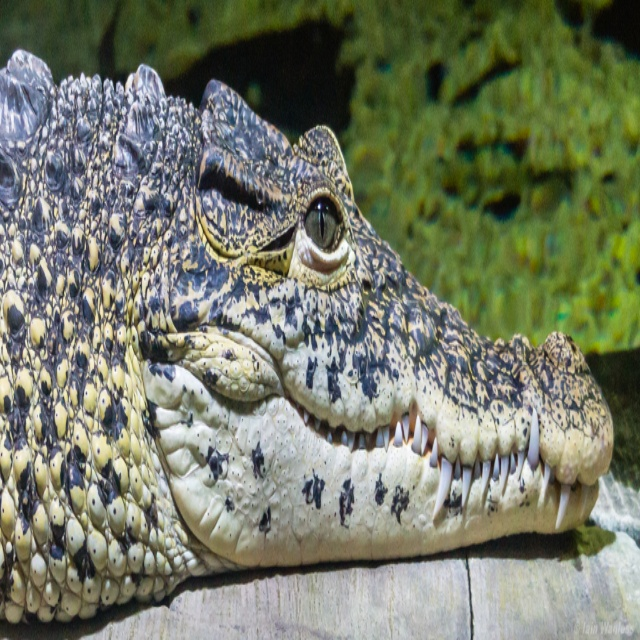Crocodile: (0, 45, 614, 625)
